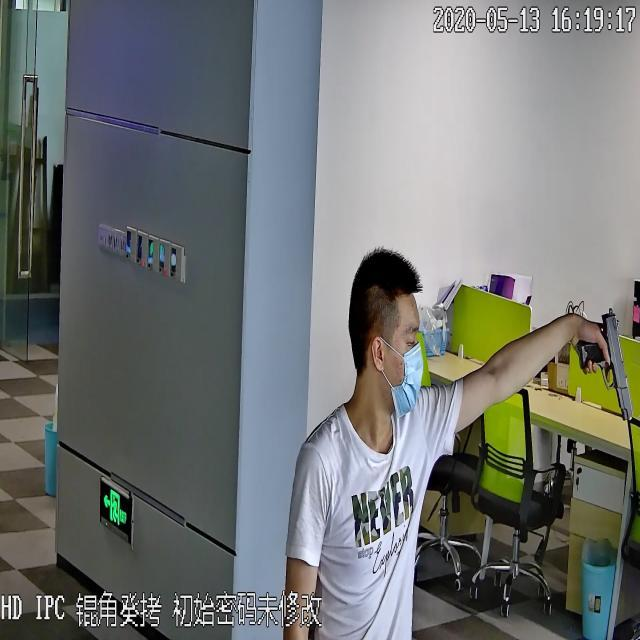gun: (574, 297, 636, 428)
